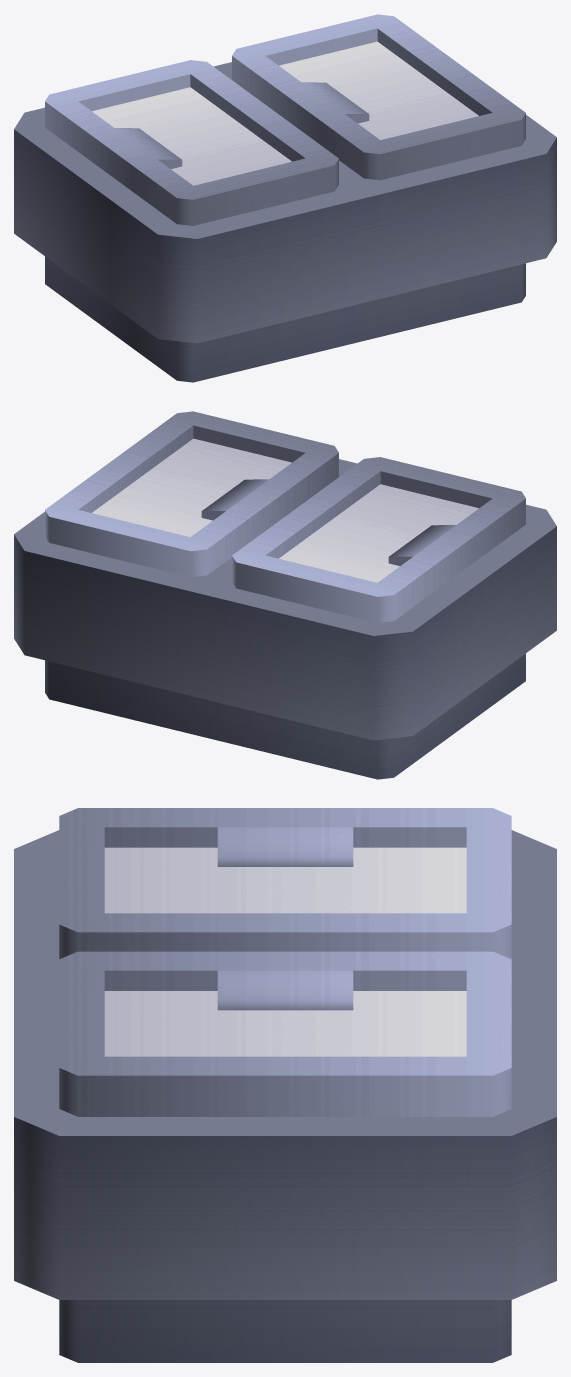
Rendered from freezer.glb.
The picture shows the model from 3 angles, top to bottom: view 1: azimuth 30°, elevation 25°; view 2: azimuth 150°, elevation 25°; view 3: azimuth 270°, elevation 25°; orthographic projection. The views are drawn at different scales.
Parts seen in each view (by area): view 1: freezer; view 2: freezer; view 3: freezer.
Boxes of the visible parts, x1=… form: freezer: x1=14, y1=14, x2=556, y2=382; freezer: x1=14, y1=411, x2=556, y2=779; freezer: x1=14, y1=808, x2=556, y2=1362.
Bounding box in the file's own units: 0.8 × 0.35 × 0.6.
1 material, 1 textured.
